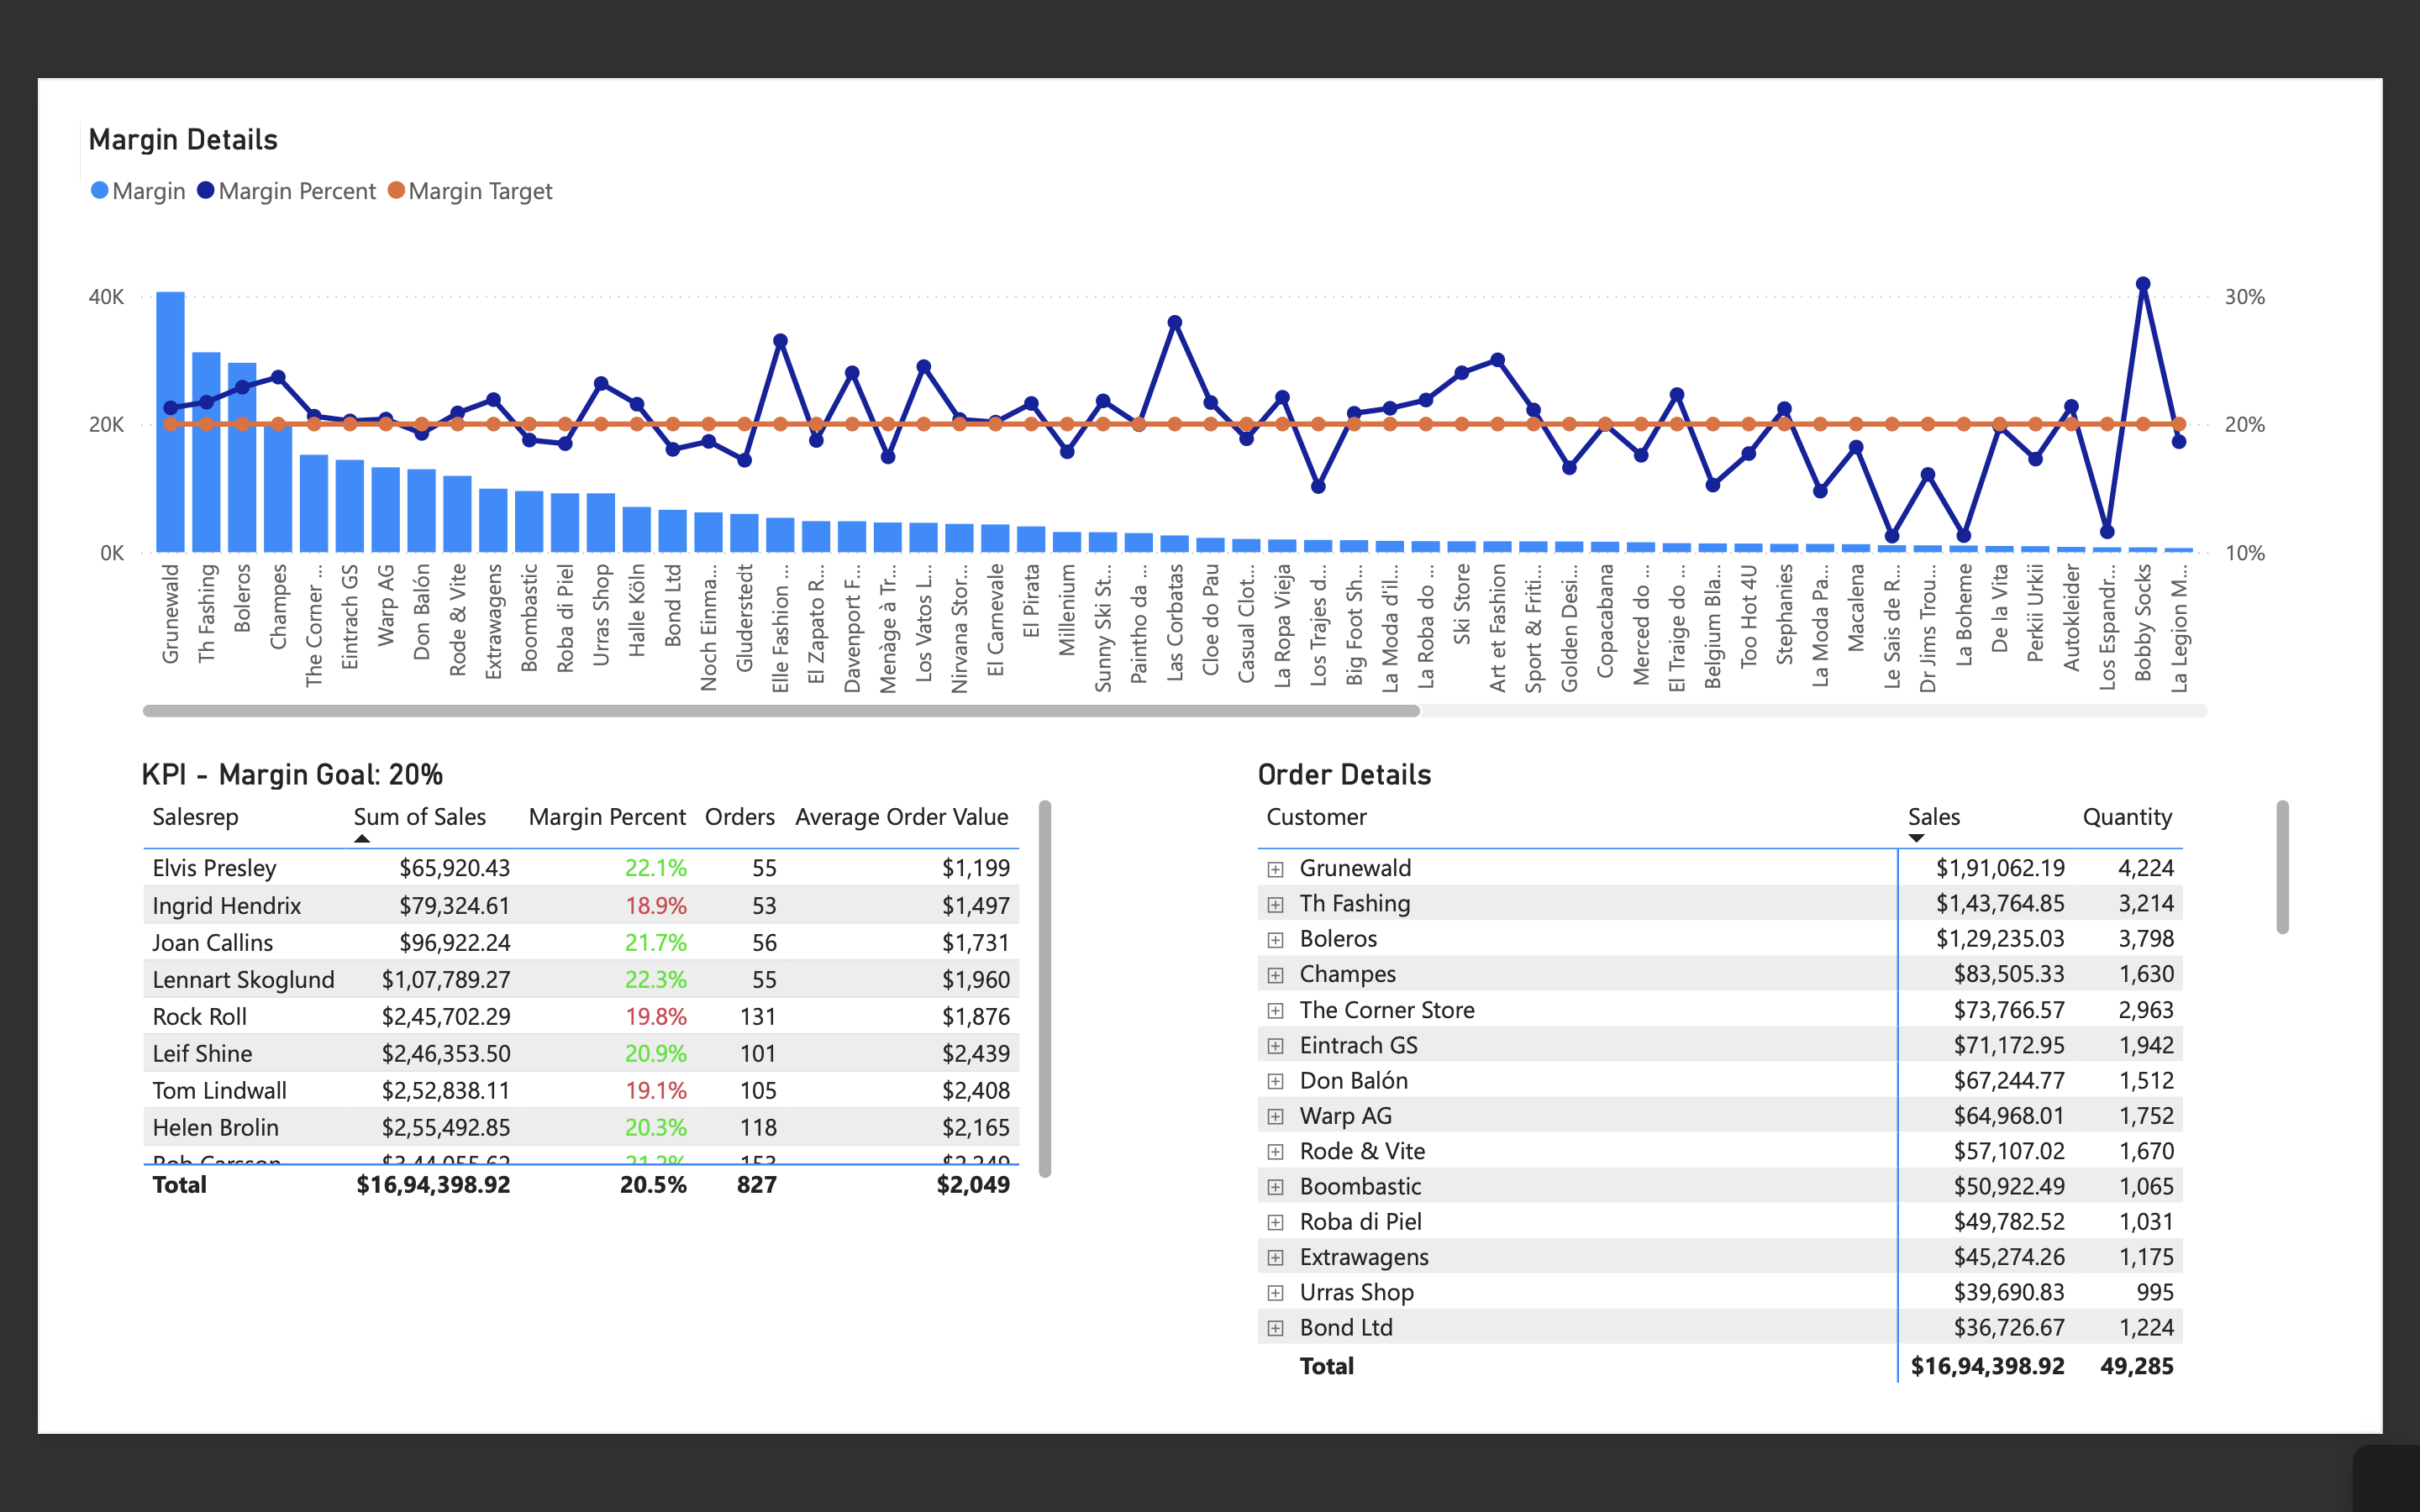

The dashboard page shown, as its layout file describes it:
{"tool":"powerbi","page":{"name":"Sales","canvas":[1280,720],"ordinal":1},"visuals":[{"type":"tableEx","title":"KPI - Margin Goal: 20%","fields":{"Values":["Employees.Salesrep","Sum(Orders.Sales)","Orders.Margin Percent","Orders.Orders","Orders.Average Order Value"]},"box":[29.6,360,526.3,257.5],"z":0},{"type":"pivotTable","title":"Order Details","fields":{"Rows":["Customers.Customer","Orders.OrderDate"],"Values":["Sum(Orders.Sales)","Sum(Orders.Quantity)"]},"box":[661.9,360,594.7,360],"z":1000},{"type":"lineClusteredColumnComboChart","title":"Margin Details","fields":{"Category":["Customers.Customer"],"Y2":["Orders.Margin Percent","Orders.Margin Target"],"Y":["Orders.Total Margin"]},"box":[0,0,1242.5,342.5],"z":2000}]}

Visuals, with their boxes on the page's 1280x720 design canvas (x1, y1, x2, y2). These are canvas units, not pixel positions in the 2420x1512 screenshot, which may show the page scaled, cropped or inside an application window:
"KPI - Margin Goal: 20%" tableEx: box(30, 360, 556, 618)
"Order Details" pivotTable: box(662, 360, 1257, 720)
"Margin Details" lineClusteredColumnComboChart: box(0, 0, 1242, 342)
